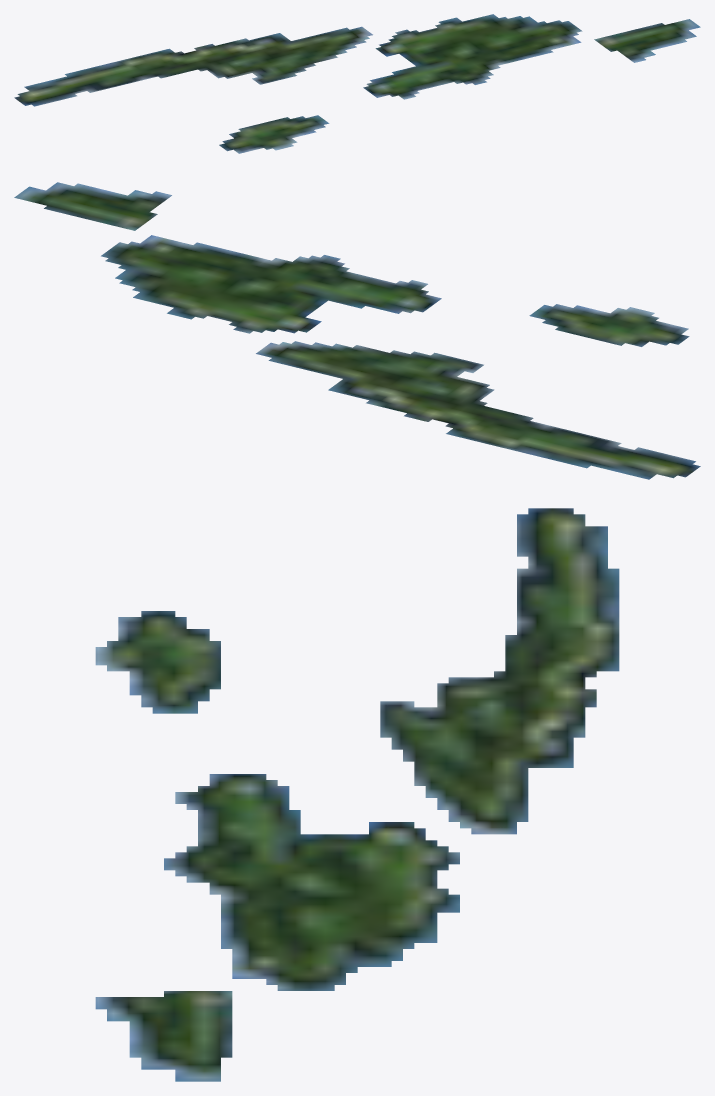
File: west-indies-land-tile.glb
3 renders of one model, top to bottom at view 1: azimuth 30°, elevation 25°; view 2: azimuth 150°, elevation 25°; view 3: azimuth 270°, elevation 25°, orthographic. The views are drawn at different scales.
Parts seen in each view (by area): view 1: Plane; view 2: Plane; view 3: Plane.
Part boxes in pixels (box(x1,y1,x2,y2)): Plane: box(14, 14, 700, 153); Plane: box(14, 182, 700, 479); Plane: box(95, 508, 619, 1081).
Bounding box in the file's own units: 0.3462 × 0 × 0.1336.
Materials: 1 (1 with a texture image).
